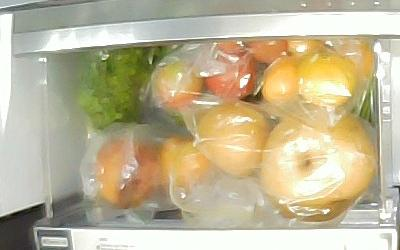peach_vinyl: (94, 139, 161, 208), (155, 137, 208, 193)
pear_vinyl: (261, 111, 376, 220), (198, 103, 270, 178)
tangerine_vinyl: (299, 52, 356, 107), (262, 57, 299, 106), (335, 38, 374, 79), (287, 38, 327, 63)
tomato_vinyl: (205, 52, 256, 101), (155, 59, 202, 110), (248, 40, 289, 63), (216, 40, 249, 57)
